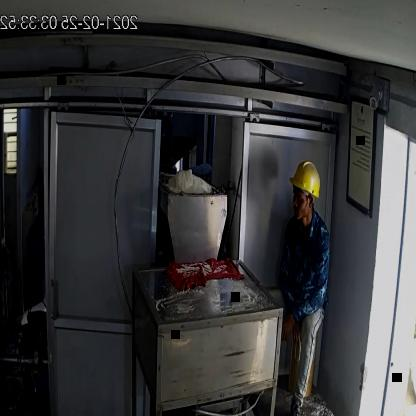helmet: (287, 155, 326, 203)
